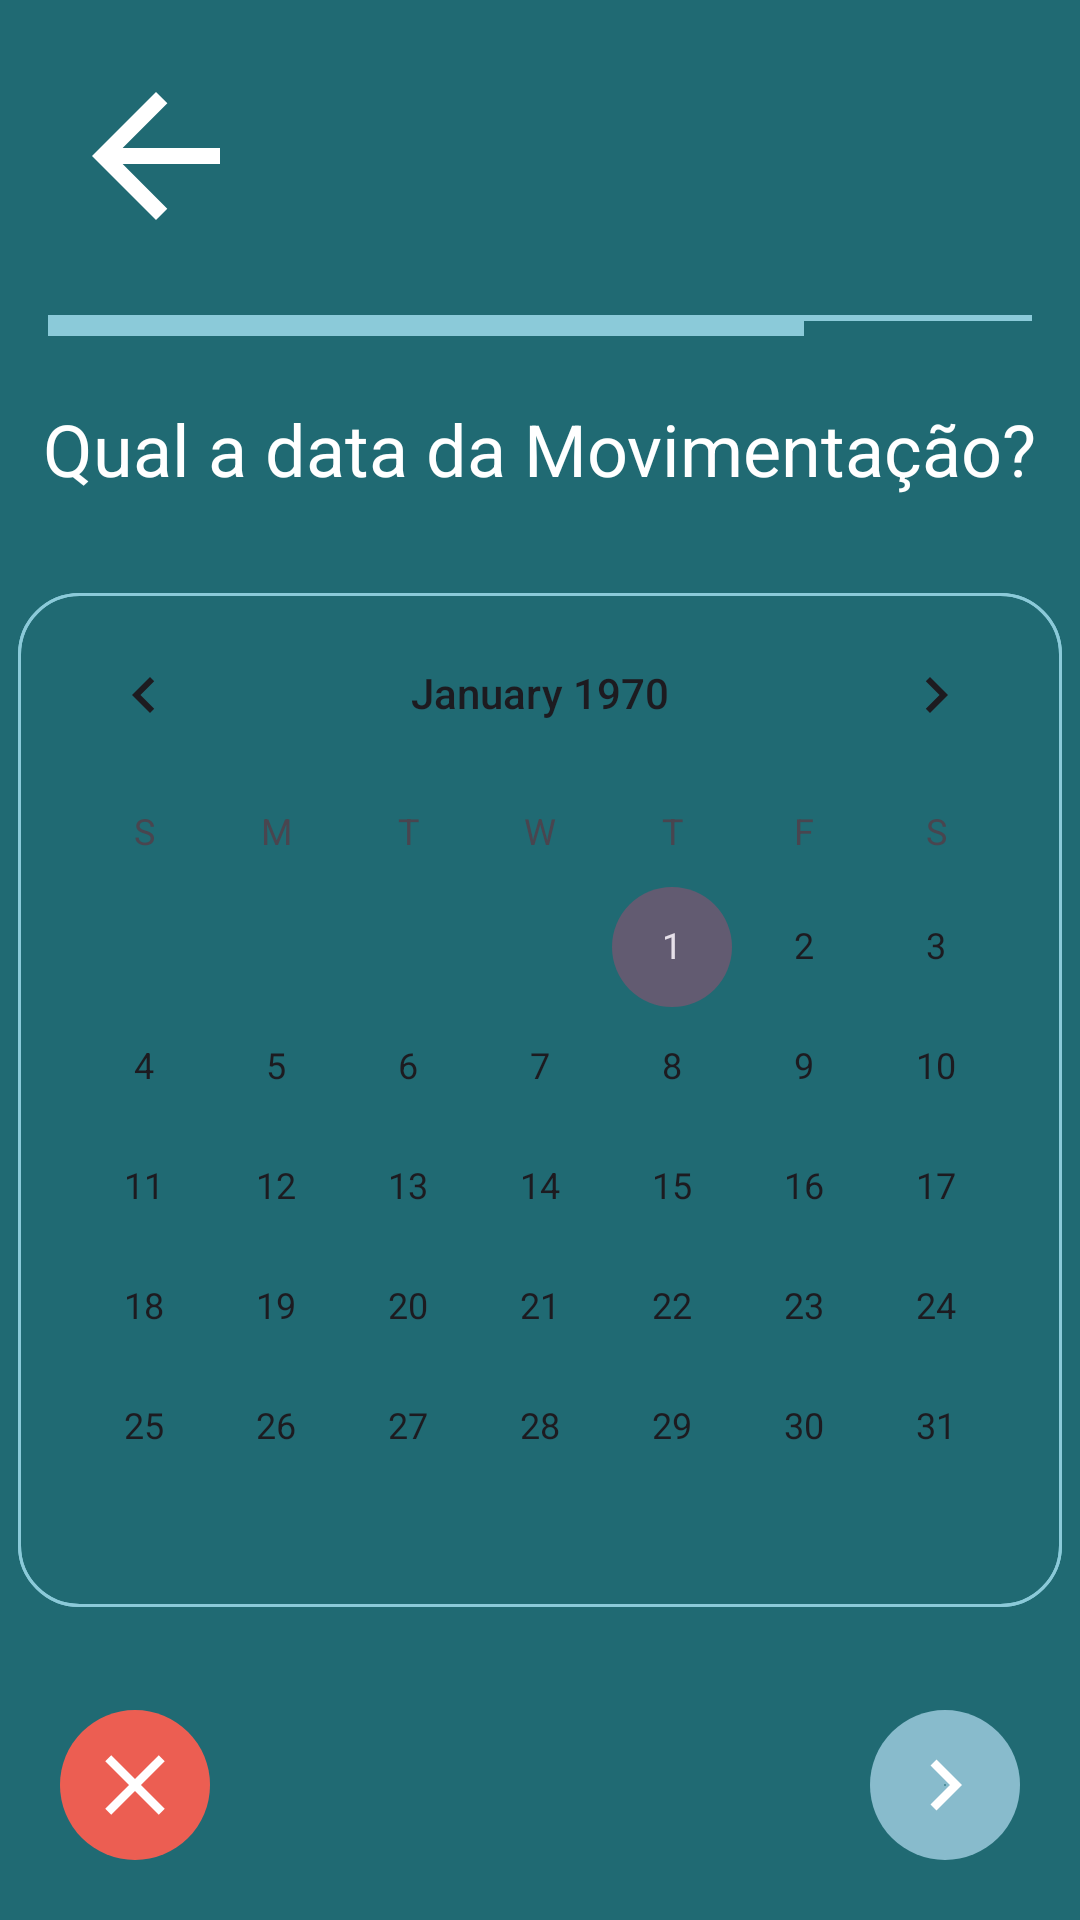

Where icons sit on this 1080w x 1920h app screen, as (x1, y1, x2, y2):
arrow back: (92, 92, 220, 220)
Botão Avançar: (870, 1710, 1020, 1860)
Botão Cancelar: (60, 1710, 210, 1860)
